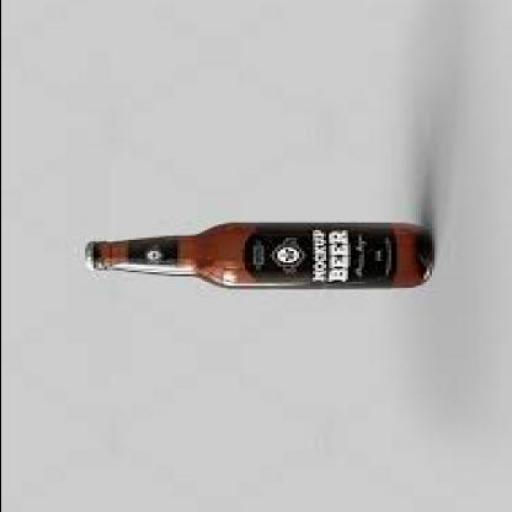glass: (92, 224, 431, 290)
metal: (82, 243, 89, 273)
